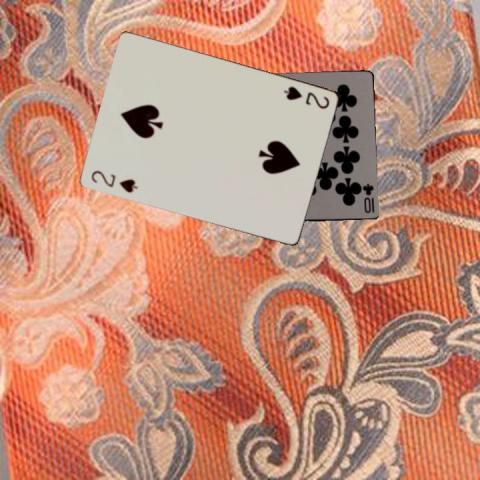10c: (360, 180, 375, 214)
2s: (88, 167, 139, 194), (282, 83, 332, 110)
